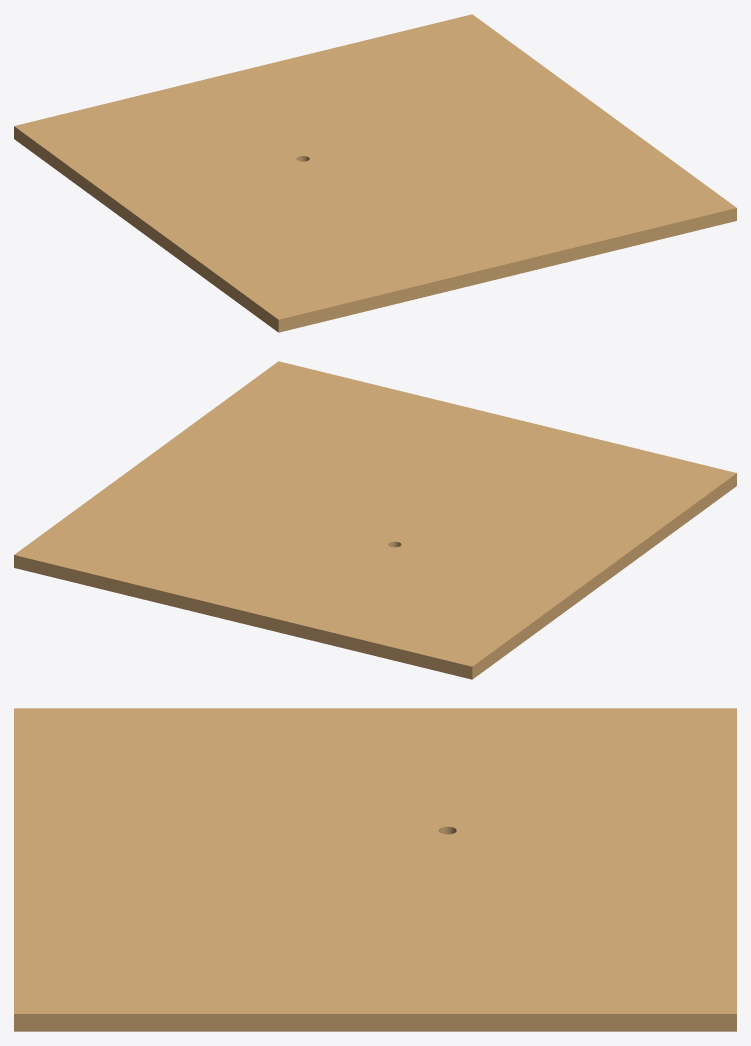
Rendered from board.glb.
The picture shows the model from 3 angles, top to bottom: view 1: azimuth 30°, elevation 25°; view 2: azimuth 150°, elevation 25°; view 3: azimuth 270°, elevation 25°; orthographic projection. The views are drawn at different scales.
Visible parts, largest first — view 1: Substrate_Layer_0_Z0, Substrate_Layer_1_Z0; view 2: Substrate_Layer_0_Z0, Substrate_Layer_1_Z0; view 3: Substrate_Layer_0_Z0, Substrate_Layer_1_Z0.
Part boxes in pixels (x1,y1,x2,y2): Substrate_Layer_0_Z0: (14,14,736,332); Substrate_Layer_1_Z0: (87,58,526,245); Substrate_Layer_0_Z0: (14,361,736,679); Substrate_Layer_1_Z0: (155,424,637,635); Substrate_Layer_0_Z0: (14,708,736,1031); Substrate_Layer_1_Z0: (158,739,664,952).
Bounding box in the file's own units: 0.01 × 0.00027 × 0.01.
